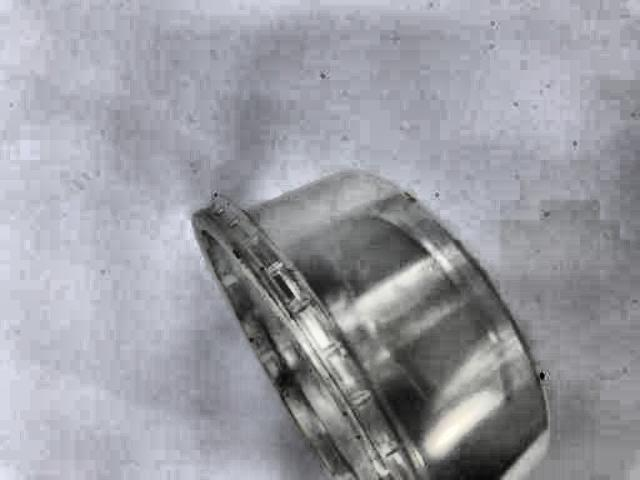Plastic: (192, 161, 558, 480)
